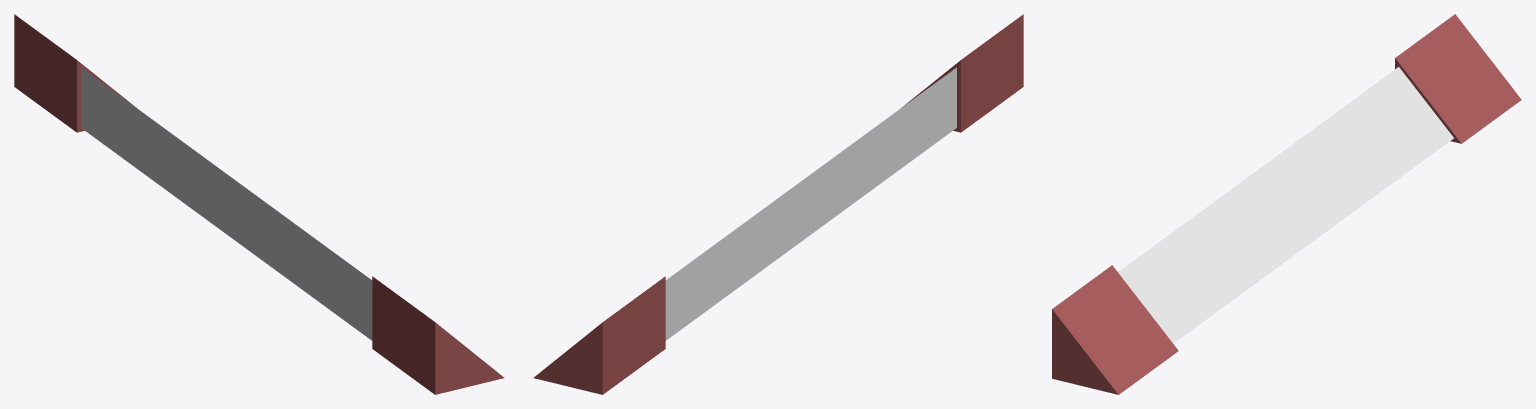
The model's file is 3fuseTriangleRed.fbx.
3 views of the same model, side by side, from view 1: azimuth 30°, elevation 25°; view 2: azimuth 150°, elevation 25°; view 3: azimuth 330°, elevation 25° (orthographic). The views are drawn at different scales.
Parts seen in each view (by area): view 1: 立方体; view 2: 立方体; view 3: 立方体.
Part boxes in pixels (x1,y1,x2,y2): 立方体: [14, 14, 504, 394]; 立方体: [533, 14, 1023, 394]; 立方体: [1052, 14, 1521, 394].
Bounding box in the file's own units: 240 × 240 × 2520.
